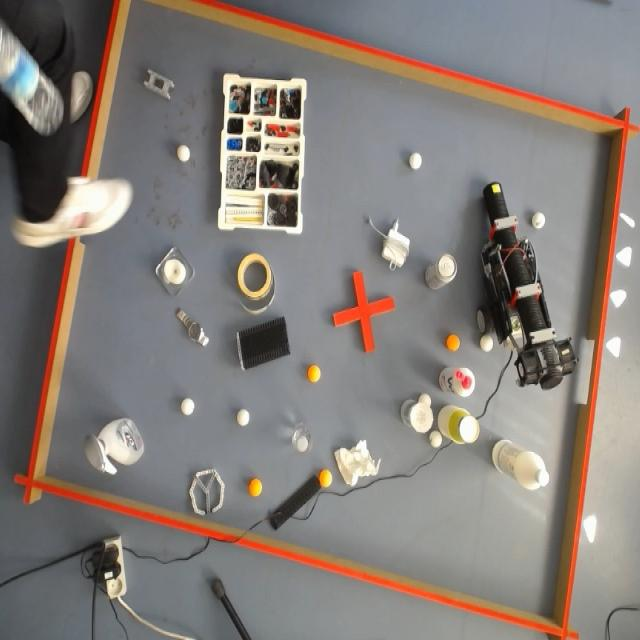orange: (306, 363, 323, 383), (248, 478, 264, 498), (318, 469, 334, 489), (446, 332, 460, 352)
robot: (478, 181, 578, 389)
robot-front: (484, 182, 508, 221)
white: (236, 406, 252, 429), (180, 396, 197, 417), (176, 141, 191, 164), (531, 210, 546, 232), (408, 152, 424, 170), (429, 430, 444, 449), (480, 335, 496, 352)
